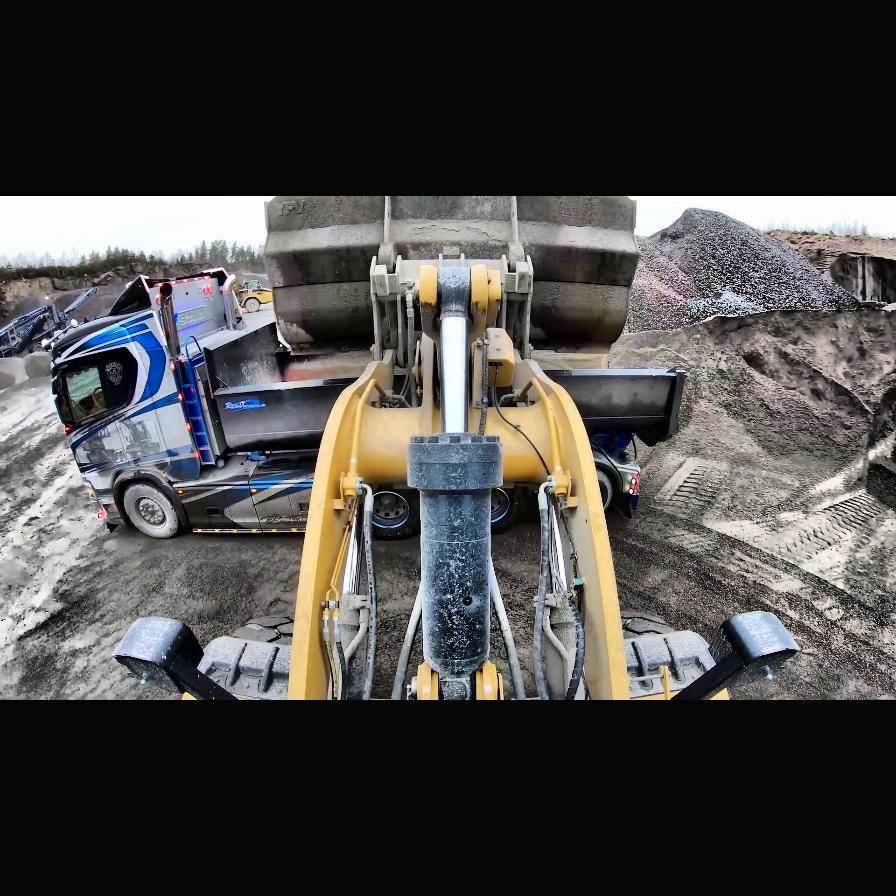anchor: (416, 258, 499, 426)
pile of gravel: (604, 310, 895, 471), (631, 209, 875, 330)
